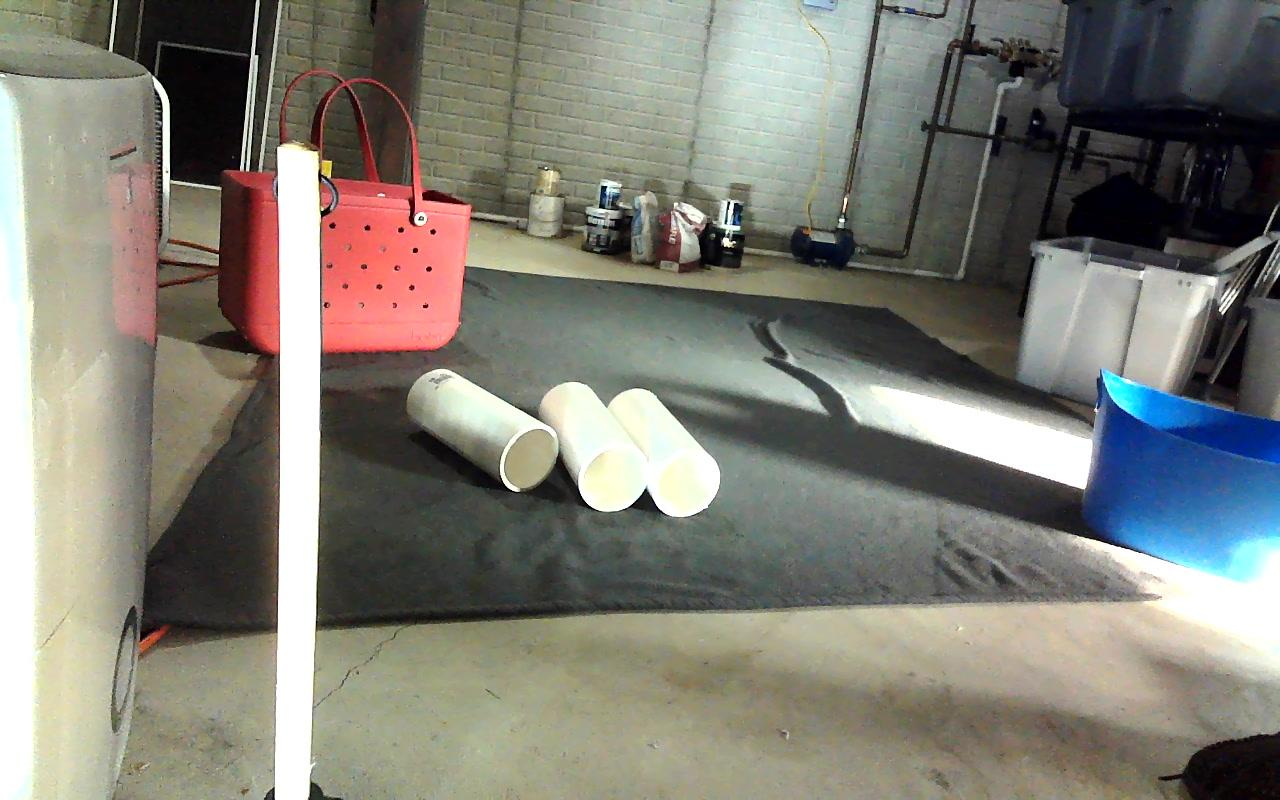coral: (406, 368, 556, 491), (543, 382, 648, 512), (612, 388, 720, 513)
